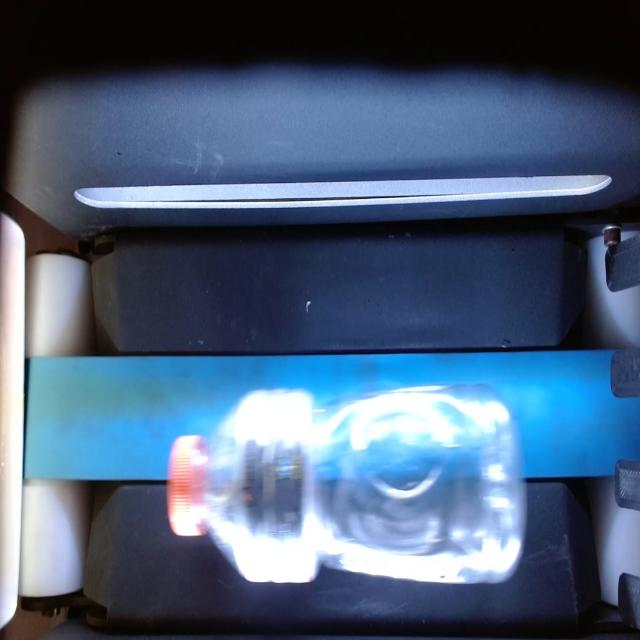bottom: (469, 358, 524, 584)
cap: (166, 420, 213, 538)
